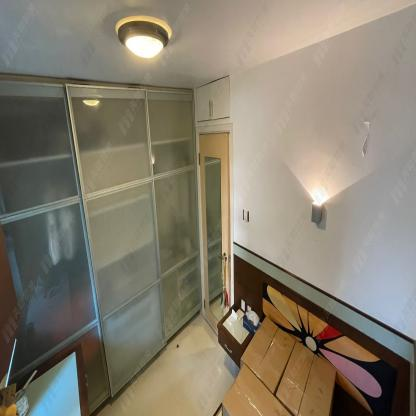Closet: (0, 72, 203, 416)
Door: (199, 130, 230, 337)
